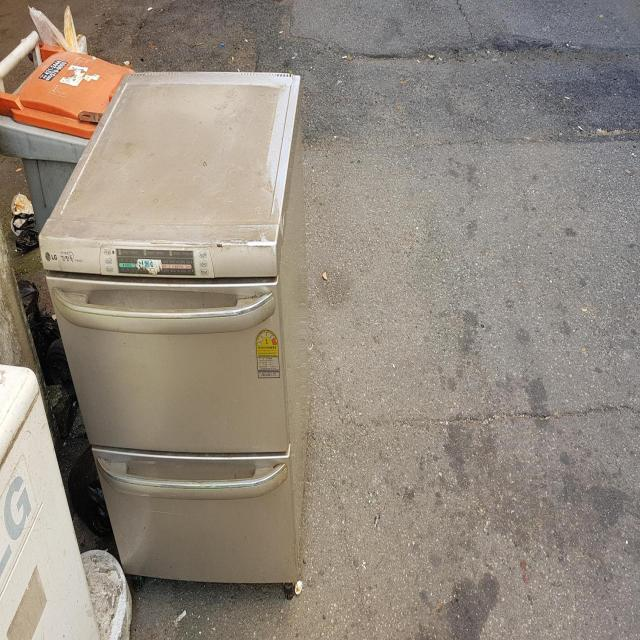refrigerator: (34, 64, 316, 608)
